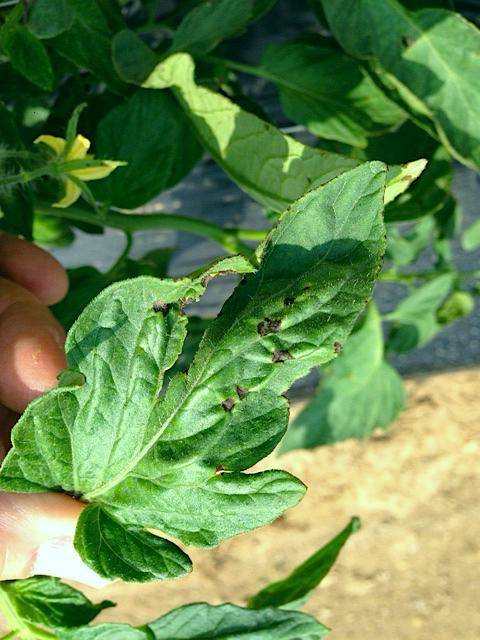Tomato leaf bacterial spot: (14, 151, 389, 587)
